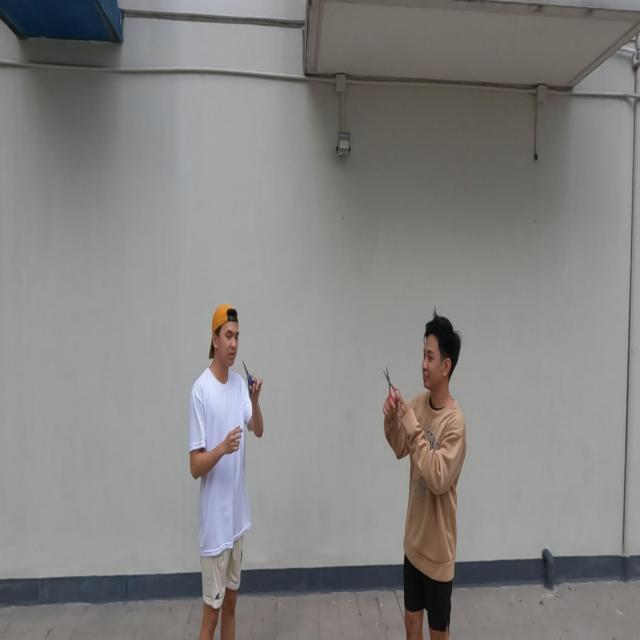scissor: (382, 366, 402, 410), (242, 359, 257, 394)
